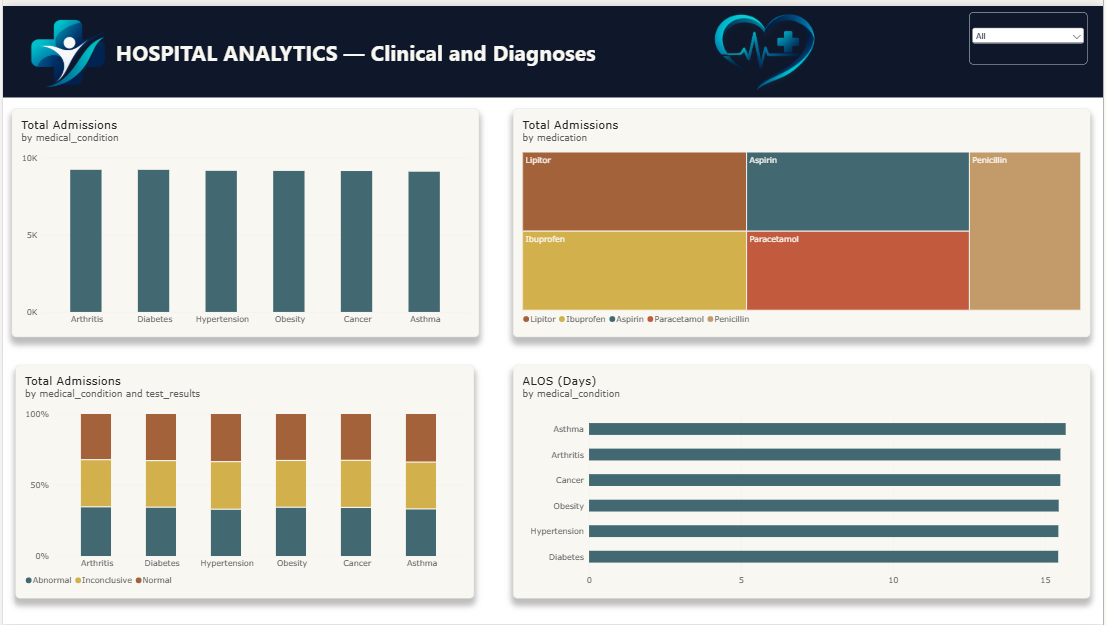

The page's visual inventory and layout, read from the dashboard file:
{"tool":"powerbi","page":{"name":"Page 4","canvas":[1920,1080],"ordinal":3},"visuals":[{"type":"shape","box":[0,0,1920.4,159.7],"z":0},{"type":"columnChart","fields":{"Category":["Dim_Condition.medical_condition"],"Y":["_Measures.Total Admissions"]},"box":[15.3,179,816.2,399.4],"z":1000},{"type":"hundredPercentStackedColumnChart","fields":{"Category":["Dim_Condition.medical_condition"],"Series":["Fact_Admissions.test_results"],"Y":["_Measures.Total Admissions"]},"box":[21.8,626.3,800.9,408.1],"z":2000},{"type":"treemap","fields":{"Group":["Fact_Admissions.medication"],"Values":["_Measures.Total Admissions"]},"box":[890.4,179,1008.2,399.4],"z":3000},{"type":"barChart","fields":{"Category":["Dim_Condition.medical_condition"],"Y":["_Measures.ALOS (Days)"]},"box":[890.4,626.3,1008.2,408.1],"z":4000},{"type":"slicer","fields":{"Values":["Fact_Admissions.admission_type"]},"box":[1687.9,10.1,206.2,91],"z":4001},{"type":"image","box":[1171.9,0,299,159.3],"z":4002},{"type":"image","box":[0,10.9,227,148.4],"z":4003}]}

Visuals, with their boxes in screenshot pixels (x1, y1, x2, y2), scaled from the page's 1920x1080 canvas onto the 1106x625 screenshot:
shape: x1=0 y1=0 x2=1105 y2=92
columnChart - Dim_Condition.medical_condition x _Measures.Total Admissions: x1=9 y1=104 x2=479 y2=335
hundredPercentStackedColumnChart - Dim_Condition.medical_condition x Fact_Admissions.test_results: x1=13 y1=362 x2=474 y2=599
treemap - Fact_Admissions.medication x _Measures.Total Admissions: x1=513 y1=104 x2=1094 y2=335
barChart - Dim_Condition.medical_condition x _Measures.ALOS (Days): x1=513 y1=362 x2=1094 y2=599
slicer - Fact_Admissions.admission_type: x1=972 y1=6 x2=1091 y2=59
image: x1=675 y1=0 x2=847 y2=92
image: x1=0 y1=6 x2=131 y2=92
